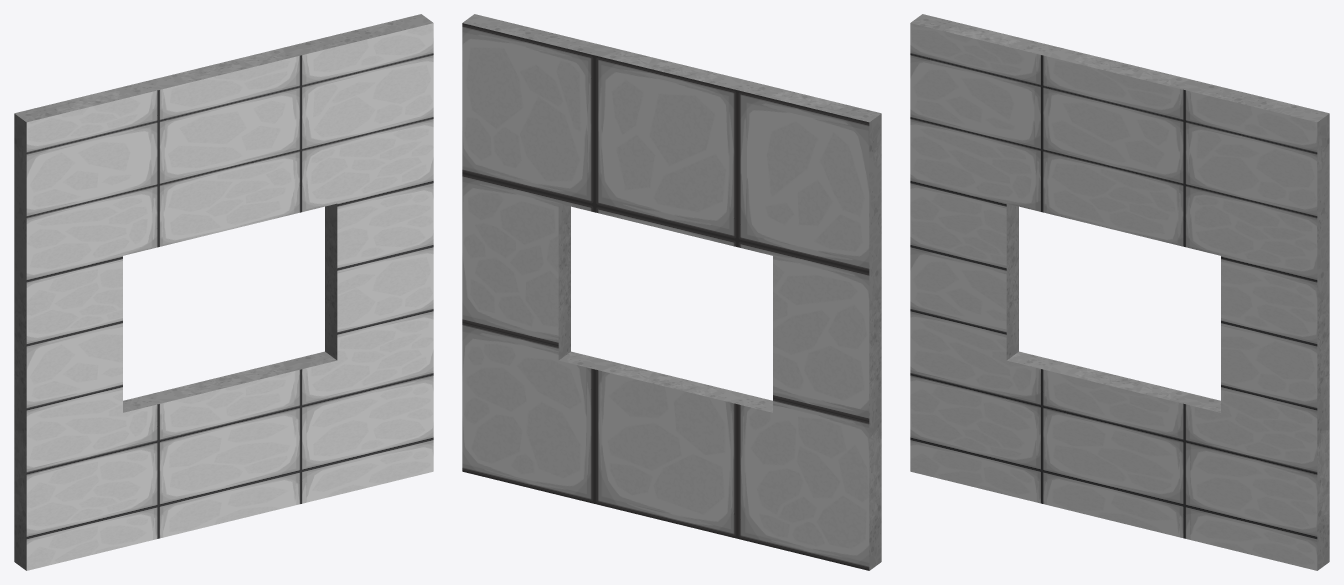
Rendered from SM_Inner_Wall_Wimdow_B.fbx.
3 renders of one model, left to right at view 1: azimuth 30°, elevation 25°; view 2: azimuth 150°, elevation 25°; view 3: azimuth 330°, elevation 25°, orthographic.
Visible parts, largest first — view 1: SM_Inner_Wall_Wimdow_B; view 2: SM_Inner_Wall_Wimdow_B; view 3: SM_Inner_Wall_Wimdow_B.
Part boxes in pixels (box(x1,y1,x2,y2)): SM_Inner_Wall_Wimdow_B: box(14, 14, 433, 570); SM_Inner_Wall_Wimdow_B: box(462, 14, 881, 570); SM_Inner_Wall_Wimdow_B: box(910, 14, 1329, 570).
Size of the model in its own units: 380 by 400 by 20.
